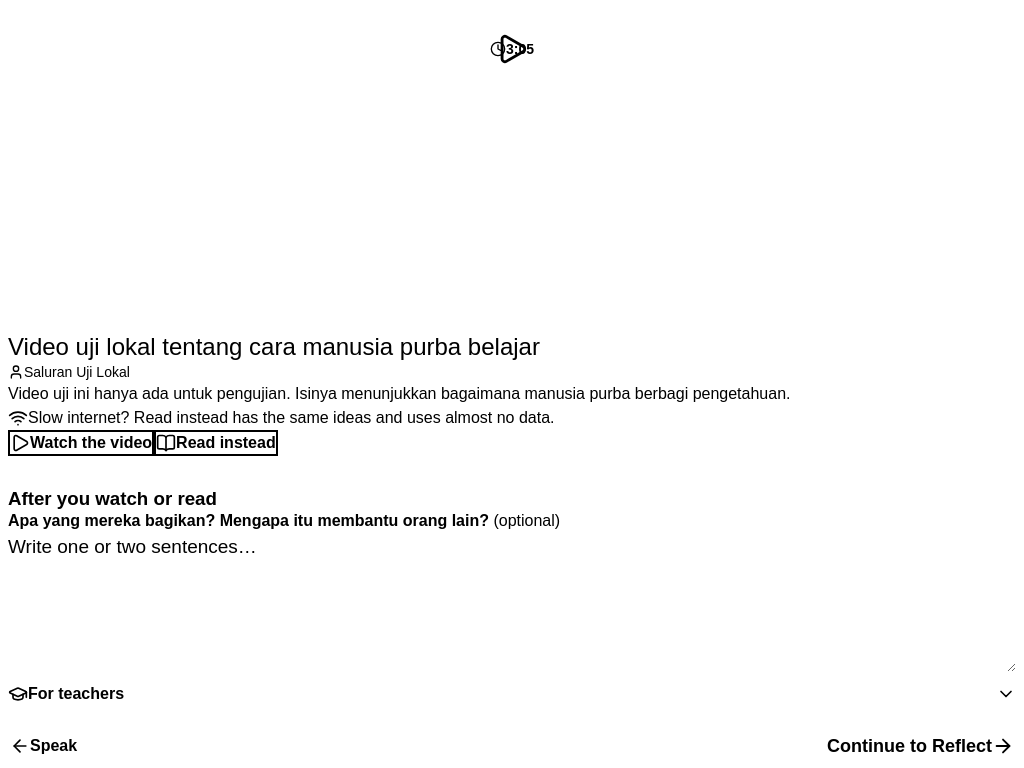
Test: WatchStage with an approved local video › keeps Read instead: the written version is the local video's, in the language
(page scrolled)
Click the button "Read instead": [216, 443] box [154,430,278,456]
(page scrolled)
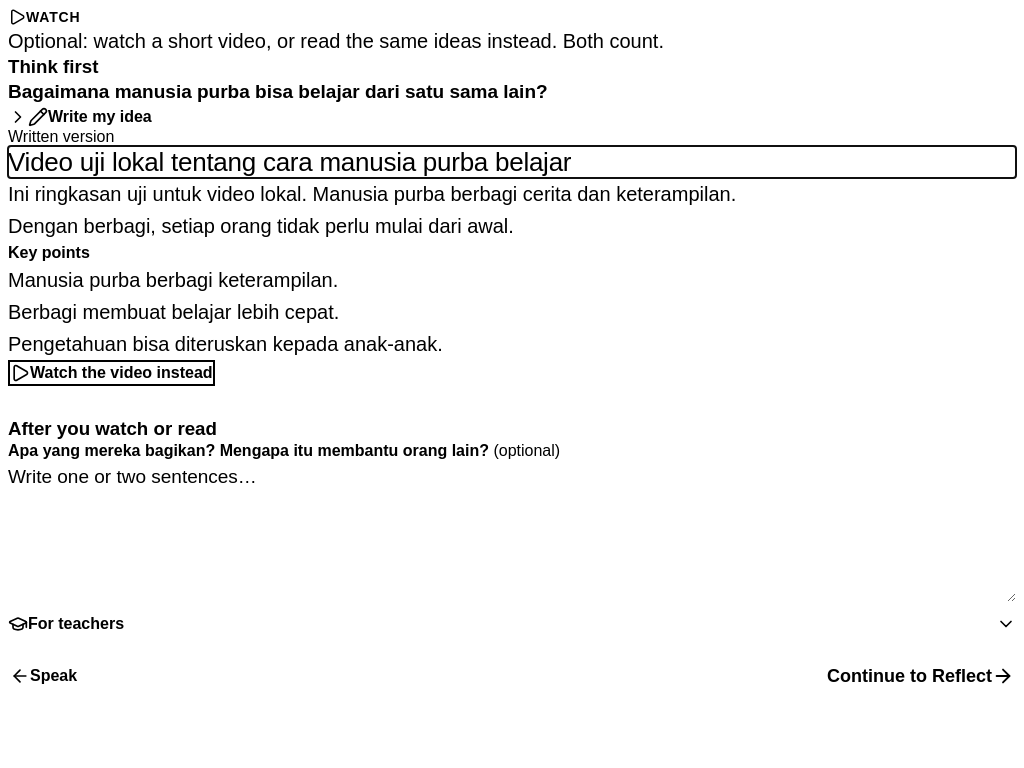
Expected: the text "Ini ringkasan uji untuk video lokal. Manusia purba berbagi cerita dan keterampilan." is shown, [8,183,736,205]
Expected: the text "Dengan berbagi, setiap orang tidak perlu mulai dari awal." is shown, [8,215,514,237]
Expected: the list item "Manusia purba berbagi keterampilan." is shown, [8,269,338,291]
